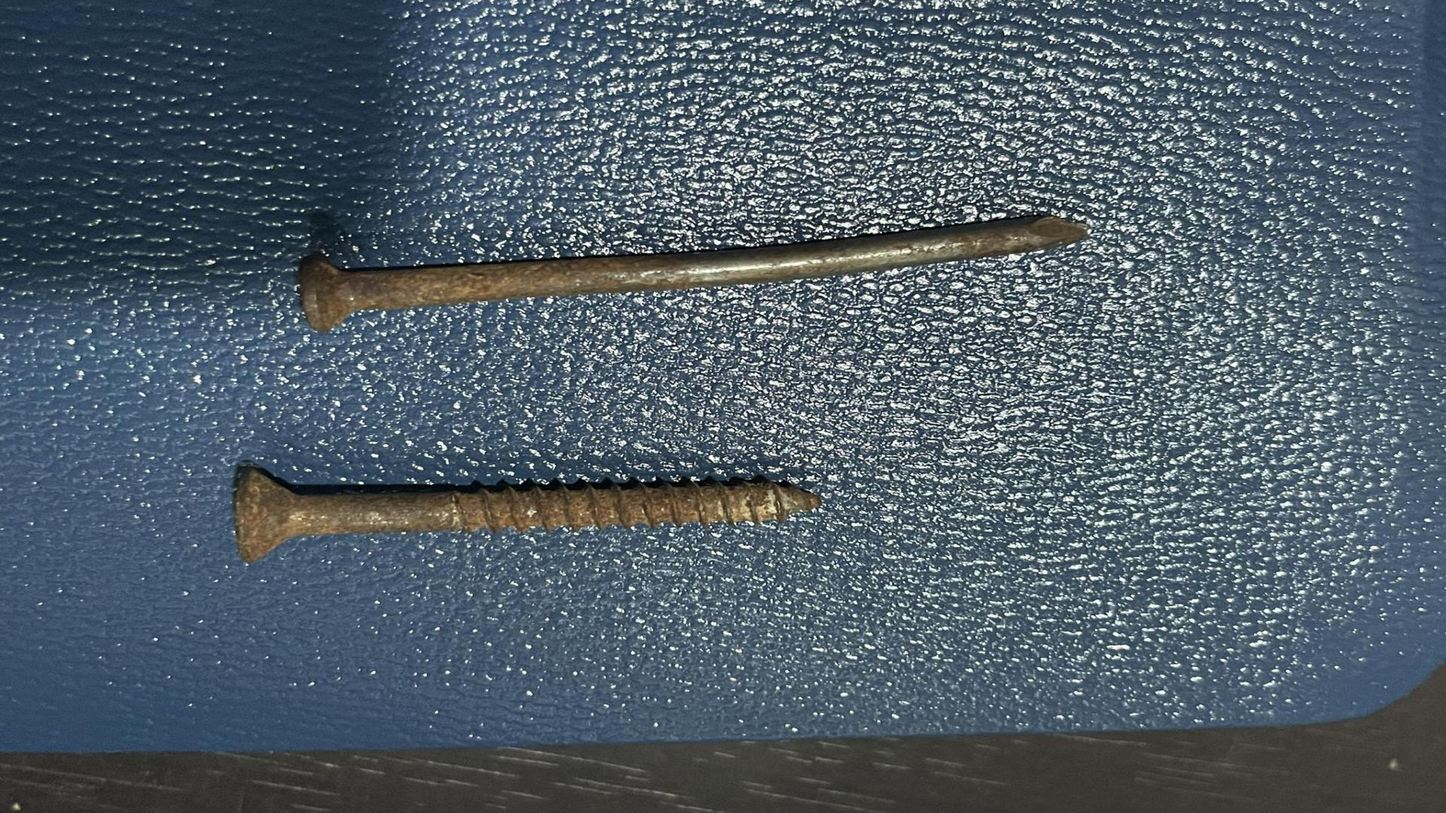nail: (229, 198, 1196, 347)
screw: (186, 445, 877, 590)
